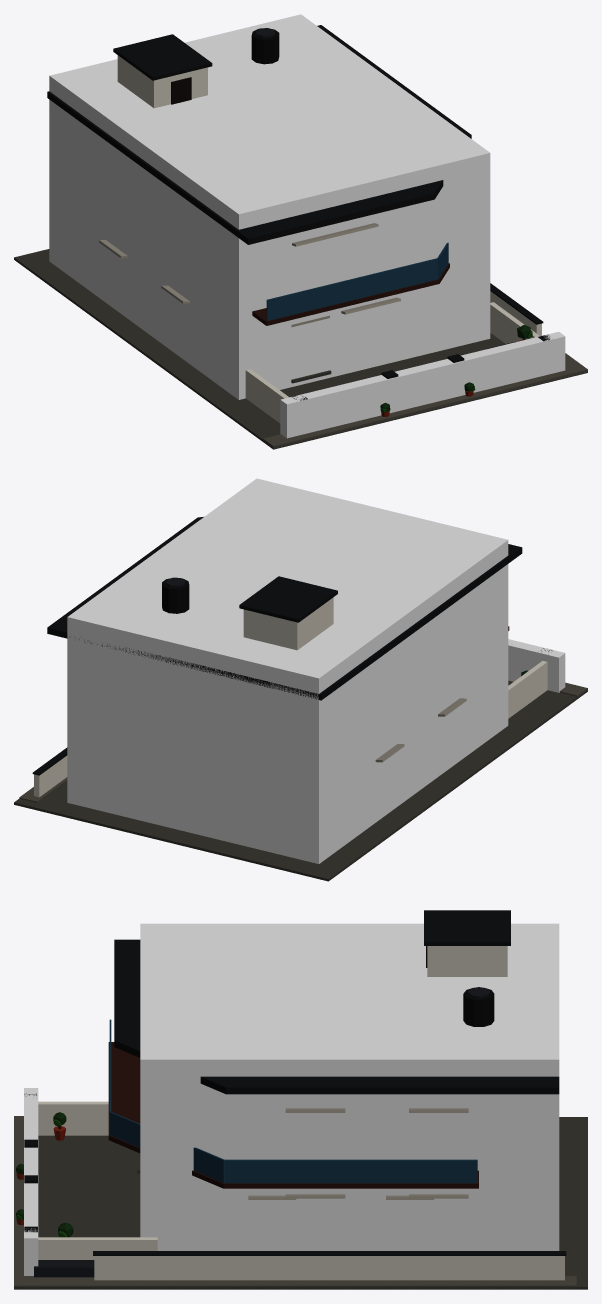
The model's file is CHN_045_corner_modern.glb.
3 renders of one model, top to bottom at view 1: azimuth 30°, elevation 25°; view 2: azimuth 150°, elevation 25°; view 3: azimuth 270°, elevation 25°, orthographic. The views are drawn at different scales.
Parts seen in each view (by area): view 1: COL_Main, LOD0, COL_Compound; view 2: COL_Main, LOD0, COL_Compound; view 3: COL_Main, LOD0, COL_Compound.
Boxes of the visible parts, <box> form: COL_Main: <box>49,14,490,399</box>; LOD0: <box>14,25,587,449</box>; COL_Compound: <box>280,331,565,438</box>; COL_Main: <box>67,478,508,863</box>; LOD0: <box>14,517,587,881</box>; COL_Compound: <box>508,639,565,692</box>; COL_Main: <box>140,923,559,1250</box>; LOD0: <box>14,910,587,1289</box>; COL_Compound: <box>24,1088,38,1275</box>.
Size of what is drawn, in the model's own units: 14 by 9.39 by 20.
